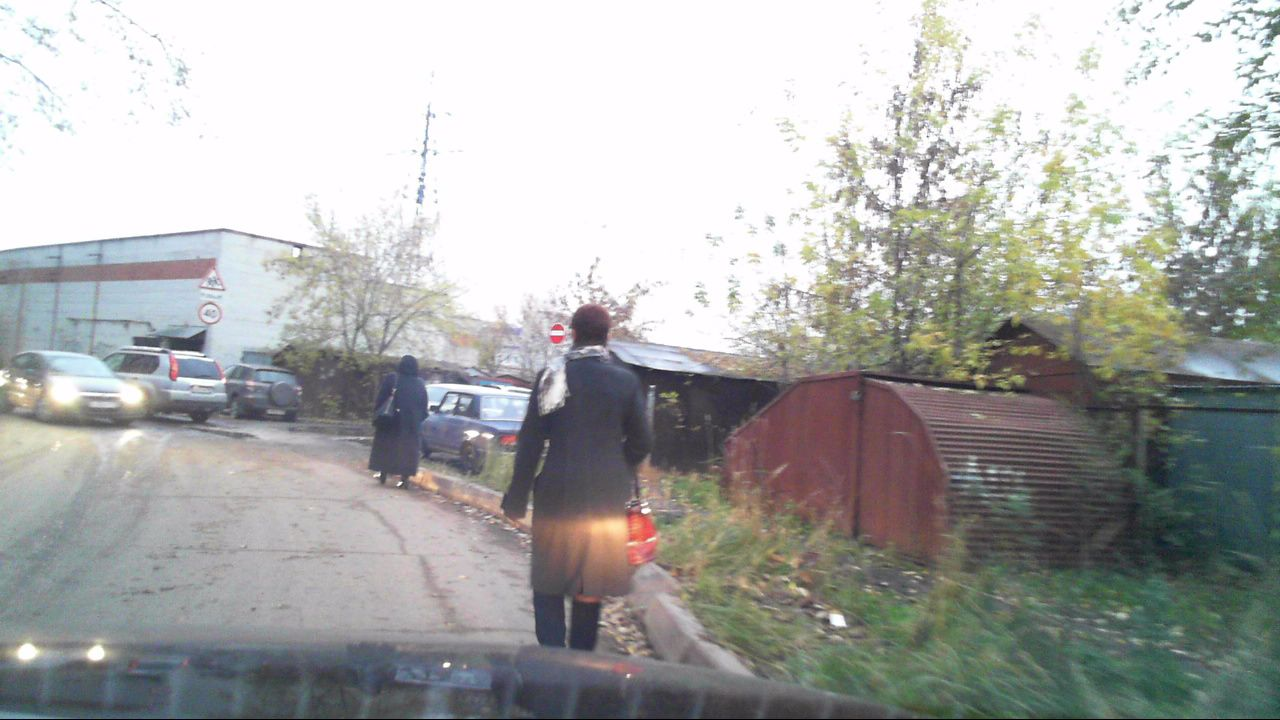speed_warning_40: (199, 301, 221, 324)
